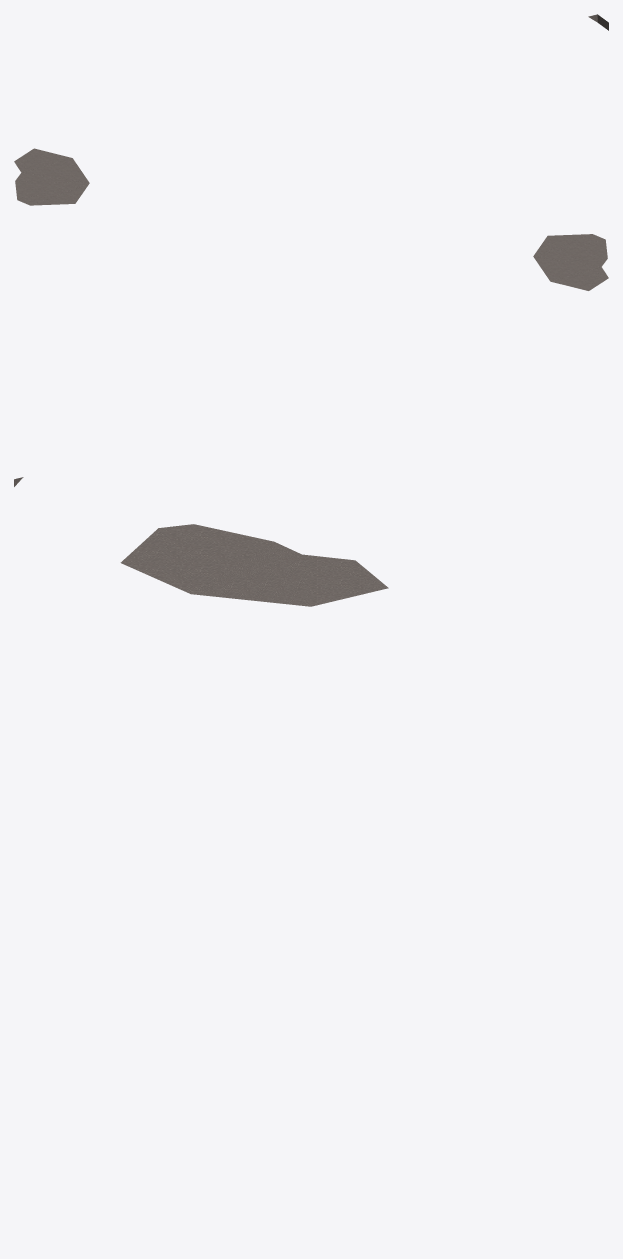
The model's file is kd_stage_135fe0_4_14.glb.
3 renders of one model, top to bottom at view 1: azimuth 30°, elevation 25°; view 2: azimuth 210°, elevation 25°; view 3: azimuth 270°, elevation 25°, orthographic. The views are drawn at different scales.
Visible parts, largest first — view 1: kd_stage_135fe0_4_14; view 2: kd_stage_135fe0_4_14; view 3: kd_stage_135fe0_4_14.
Boxes of the visible parts, x1,y1,x2,y2 form: kd_stage_135fe0_4_14: (14, 14, 608, 205); kd_stage_135fe0_4_14: (14, 234, 608, 486); kd_stage_135fe0_4_14: (120, 524, 388, 606).
Bounding box in the file's own units: 66.26 × 3.8 × 16.68.
Materials: 1 (1 with a texture image).
